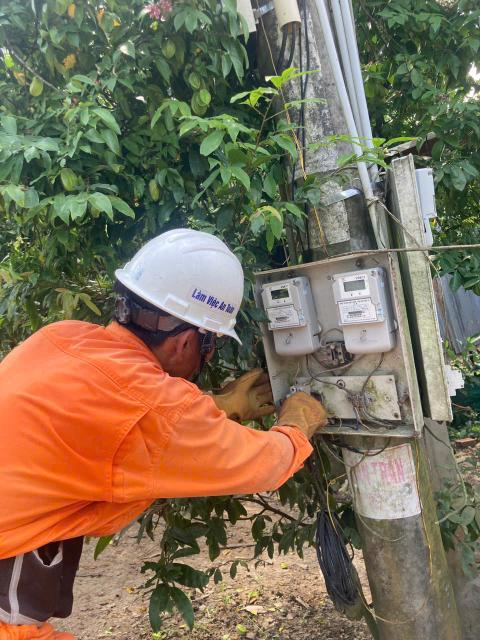gloves: (243, 391, 343, 447), (190, 376, 299, 424)
helmet: (94, 219, 265, 361)
